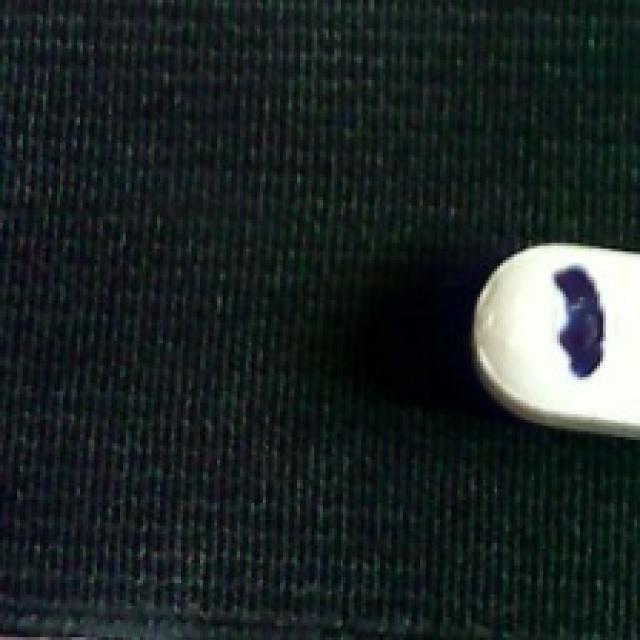defected: (463, 240, 637, 440)
